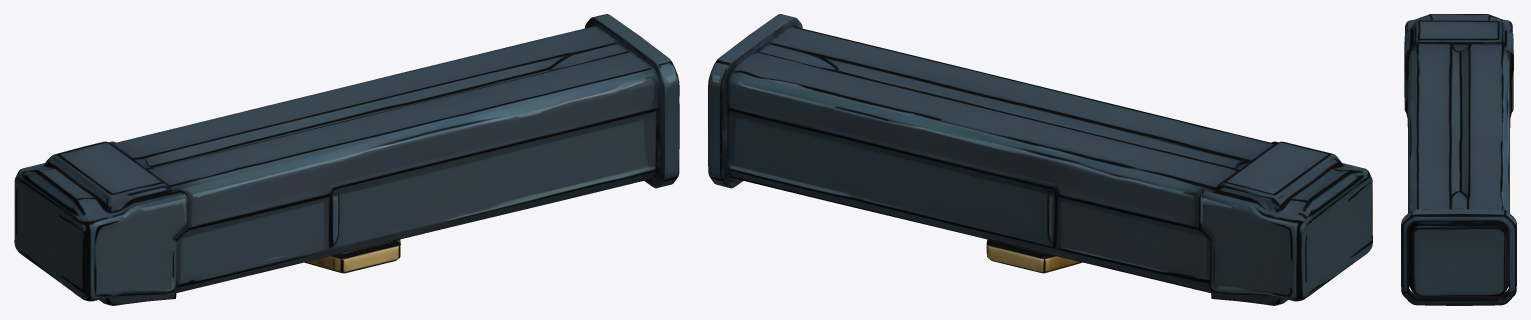
The model's file is WPN-MAG-02-SMG.glb.
3 views of the same model, side by side, from view 1: azimuth 30°, elevation 25°; view 2: azimuth 150°, elevation 25°; view 3: azimuth 270°, elevation 25° (orthographic). The views are drawn at different scales.
Visible parts, largest first — view 1: node_0; view 2: node_0; view 3: node_0.
Part boxes in pixels (<box>): node_0: <box>14,14,679,305</box>; node_0: <box>708,14,1372,305</box>; node_0: <box>1401,14,1516,305</box>.
Size of the model in its own units: 1.16 by 0.2633 by 0.2716.
Materials: 1 (1 with a texture image).
